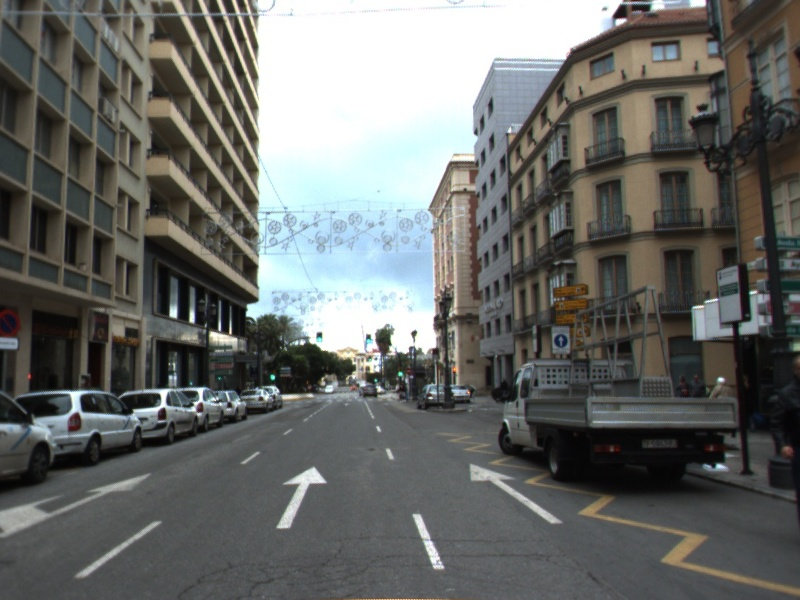STRAIGHT: (467, 460, 567, 526), (273, 463, 330, 531)
STRAIGHT_LEFT: (1, 469, 156, 537)
